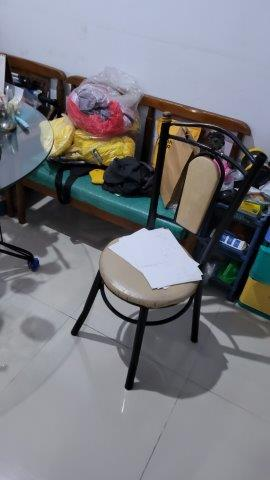kertas: (105, 228, 202, 288)
